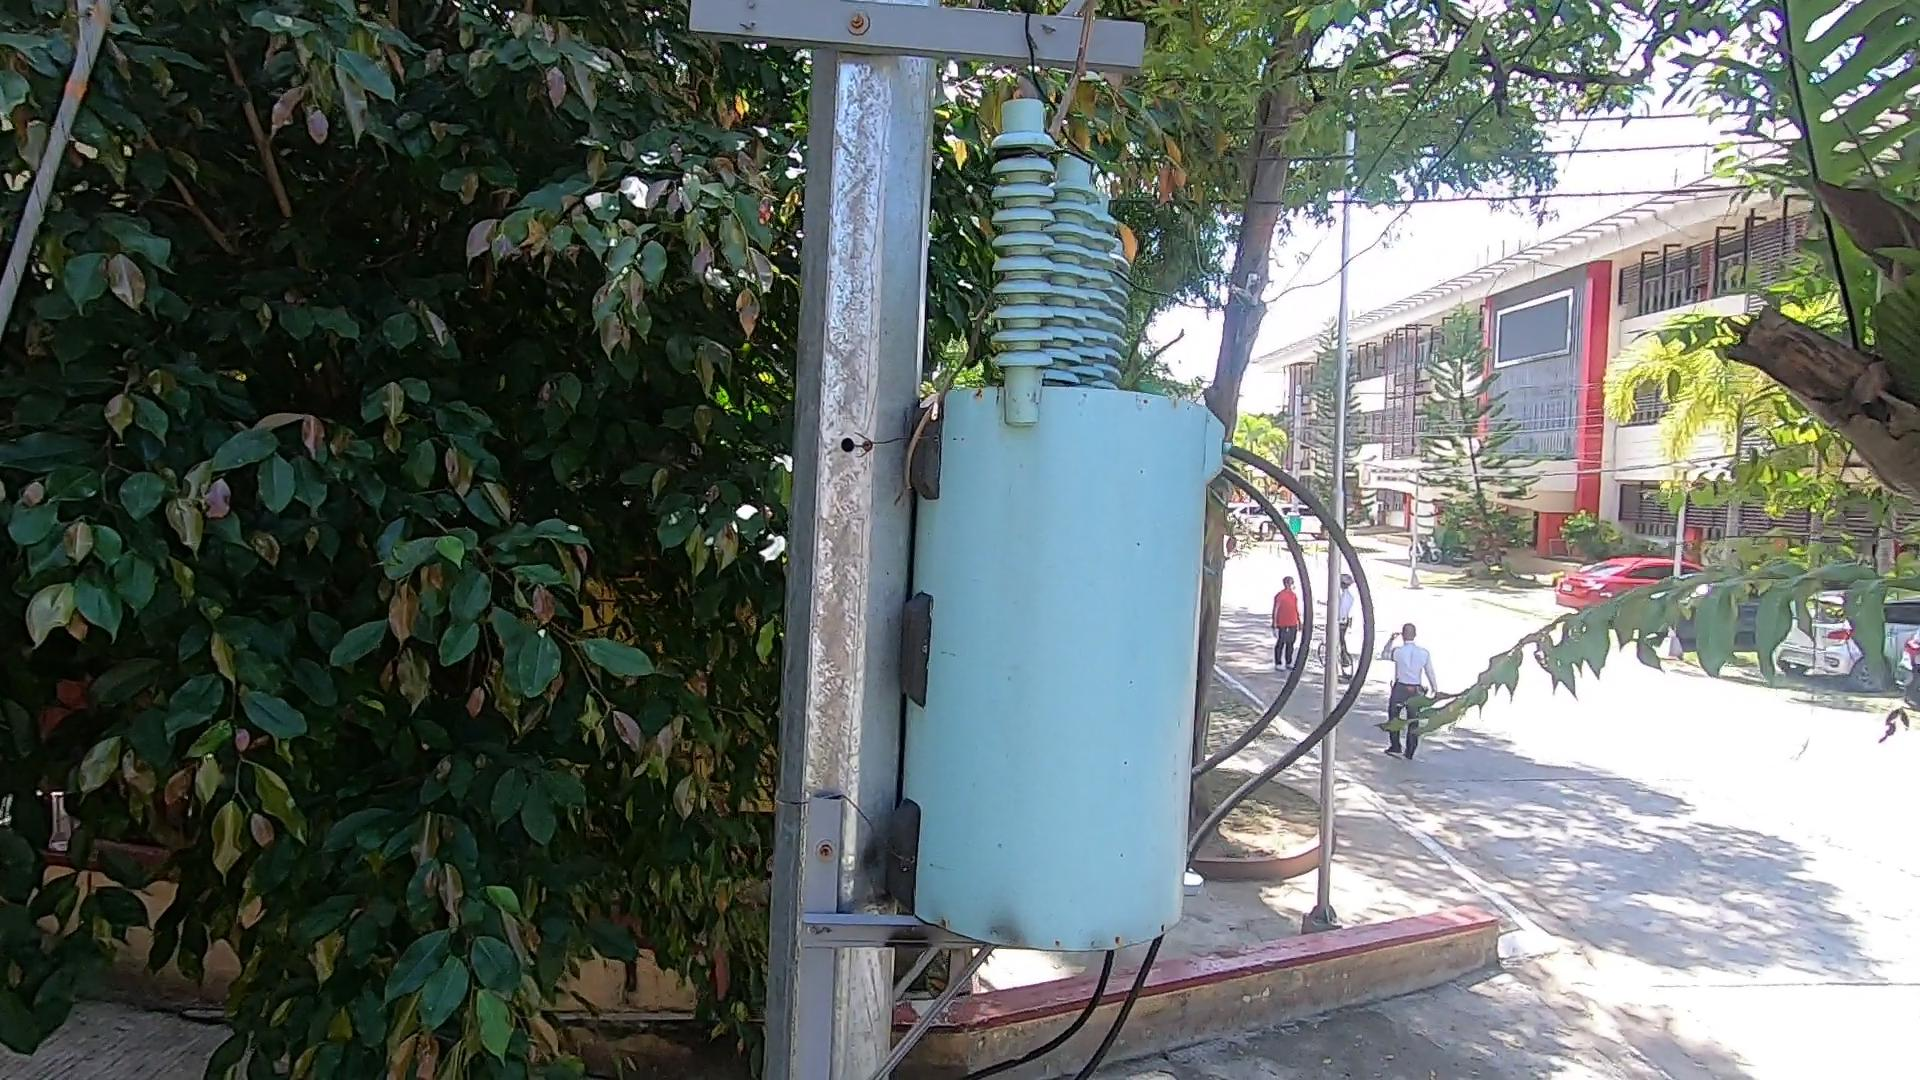leaf: (1116, 228, 1142, 268)
tree branch: (891, 15, 1160, 462)
